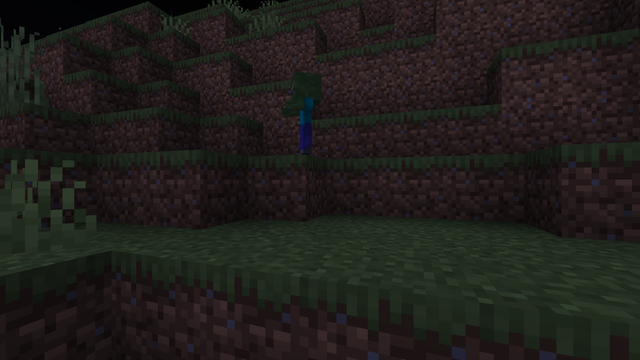zombies: (291, 83, 317, 155)
